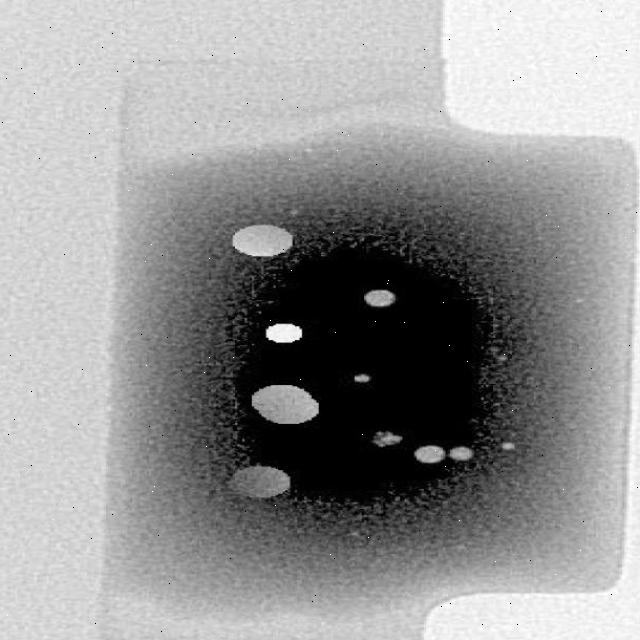Chip: (105, 129, 635, 640)
void: (222, 236, 507, 502), (253, 386, 318, 424), (232, 225, 293, 258), (229, 466, 289, 498), (265, 323, 301, 343), (364, 290, 396, 306), (414, 447, 445, 463), (371, 431, 402, 447), (449, 447, 473, 462), (355, 374, 370, 383)
